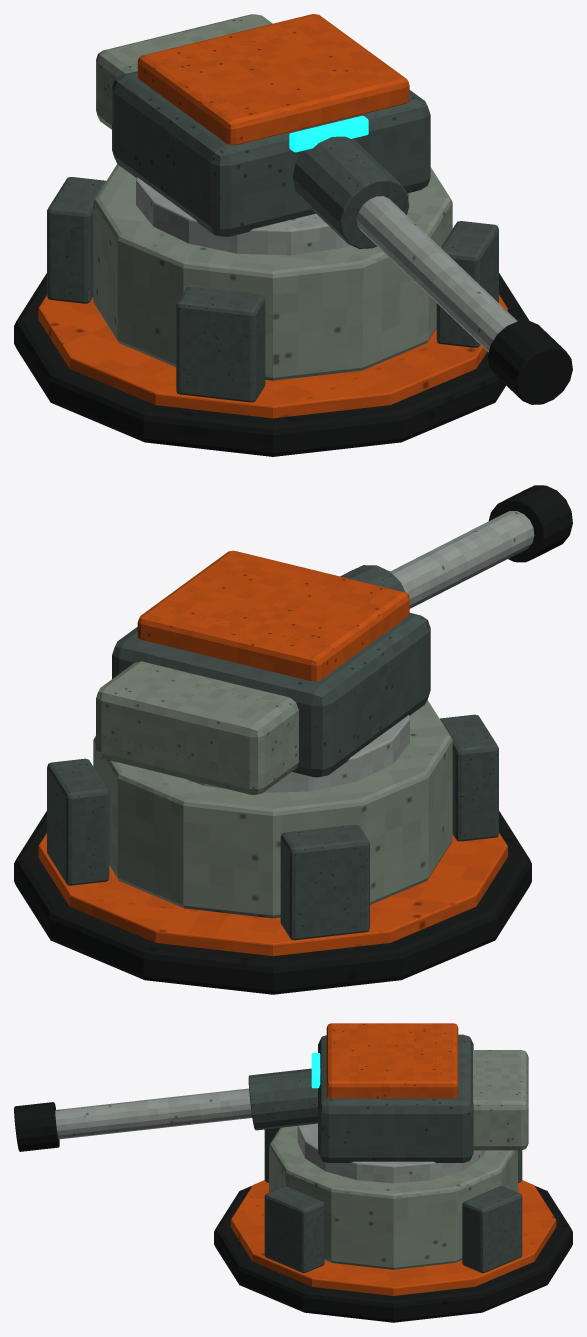
The model's file is ff_can_01_v1.glb.
The picture shows the model from 3 angles, top to bottom: view 1: azimuth 30°, elevation 25°; view 2: azimuth 150°, elevation 25°; view 3: azimuth 270°, elevation 25°; orthographic projection. The views are drawn at different scales.
Parts seen in each view (by area): view 1: armored_bunker, turret_body, turret_armor, foundation, foundation_trim, bunker_brace_2, main_barrel, barrel_sleeve, turret_ring, bunker_brace_1, muzzle_brake, rear_counterweight (+2 smaller); view 2: armored_bunker, foundation, turret_armor, rear_counterweight, foundation_trim, turret_body, bunker_brace_1, bunker_brace_0, main_barrel, bunker_brace_2, turret_ring, muzzle_brake (+1 smaller); view 3: armored_bunker, foundation, turret_body, turret_armor, foundation_trim, main_barrel, rear_counterweight, bunker_brace_0, bunker_brace_3, barrel_sleeve, turret_ring, muzzle_brake.
Boxes of the visible parts, x1,y1,x2,y2 form: armored_bunker: (93, 164, 452, 380); turret_body: (112, 71, 430, 236); turret_armor: (137, 14, 409, 145); foundation: (14, 273, 529, 456); foundation_trim: (38, 295, 507, 418); bunker_brace_2: (176, 287, 265, 402); main_barrel: (356, 196, 517, 352); barrel_sleeve: (292, 136, 409, 248); turret_ring: (136, 177, 409, 255); bunker_brace_1: (47, 177, 105, 303); muzzle_brake: (488, 320, 572, 404); rear_counterweight: (96, 14, 272, 129); armored_bunker: (93, 700, 452, 918); foundation: (14, 811, 531, 994); turret_armor: (137, 550, 409, 681); rear_counterweight: (96, 661, 298, 794); foundation_trim: (38, 833, 507, 956); turret_body: (112, 613, 430, 777); bunker_brace_1: (280, 824, 369, 940); bunker_brace_0: (47, 758, 109, 885); main_barrel: (390, 511, 534, 608); bunker_brace_2: (440, 714, 498, 841); turret_ring: (187, 715, 409, 792); muzzle_brake: (488, 485, 572, 562); armored_bunker: (269, 1126, 517, 1269); foundation: (214, 1186, 572, 1322); turret_body: (318, 1034, 473, 1162); turret_armor: (326, 1023, 458, 1098); foundation_trim: (230, 1180, 556, 1295); main_barrel: (55, 1088, 252, 1139); rear_counterweight: (473, 1050, 528, 1150); bunker_brace_0: (462, 1186, 522, 1273); bunker_brace_3: (264, 1186, 324, 1273); barrel_sleeve: (248, 1068, 321, 1130); turret_ring: (297, 1123, 485, 1183); muzzle_brake: (14, 1102, 59, 1151).
Size of the model in its own units: 7.5 by 4.53 by 11.68.
Materials: 6 (5 with a texture image).
